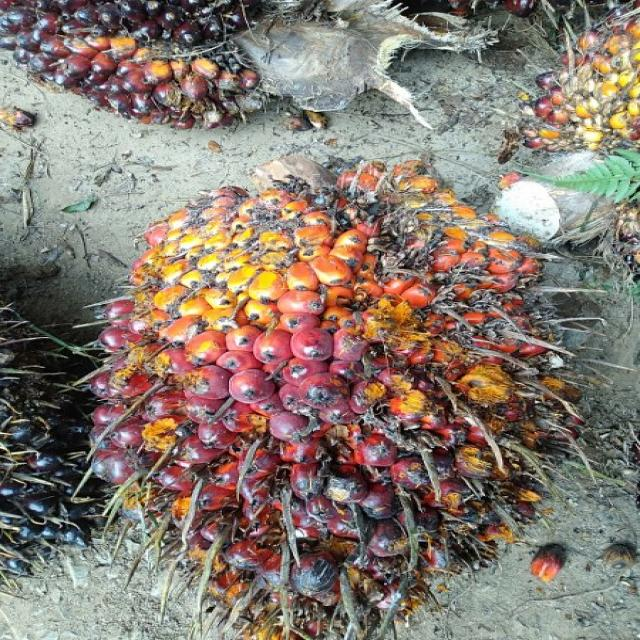fraksi 3: (67, 125, 622, 638)
